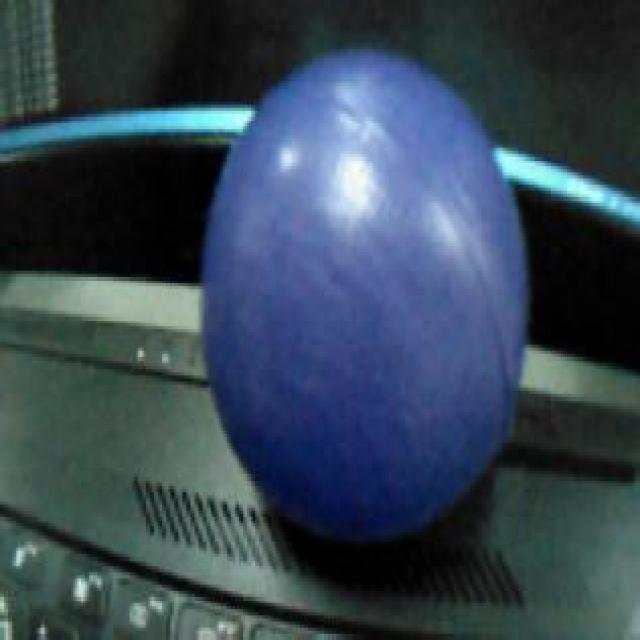BallPurple: (203, 48, 530, 546)
